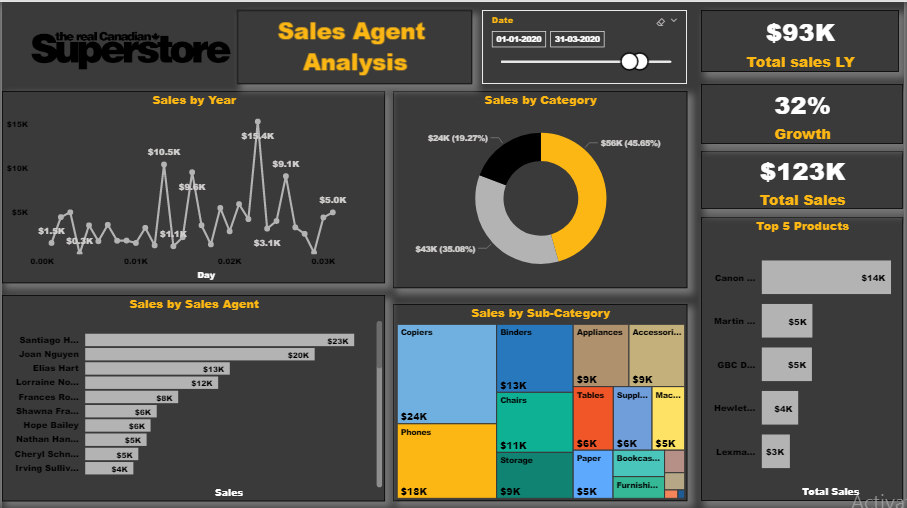

The page's visual inventory and layout, read from the dashboard file:
{"tool":"powerbi","page":{"name":"Sales  Agent Analysis","canvas":[1280,720],"ordinal":0},"visuals":[{"type":"donutChart","title":"Sales by Category","fields":{"Y":["Measures (2).Total Sales"],"Category":["Orders.Category"]},"box":[555.3,126.4,417.5,279.8],"z":0},{"type":"treemap","title":"Sales by Sub-Category","fields":{"Group":["Orders.Sub-Category"],"Values":["Measures (2).Total Sales"]},"box":[555.3,428.9,417.5,279.8],"z":1000},{"type":"lineChart","title":"Sales by Year","fields":{"Y":["Measures (2).Total Sales"],"Category":["Invoked Function.Date.Variation.Date Hierarchy.Year","Invoked Function.Date.Variation.Date Hierarchy.Quarter","Invoked Function.Date.Variation.Date Hierarchy.Month","Invoked Function.Date.Variation.Date Hierarchy.Day"]},"box":[0,126.4,543.9,272.7],"z":2000},{"type":"slicer","fields":{"Values":["Date Table.Date"]},"box":[681.7,11.4,291.1,105.1],"z":3000},{"type":"barChart","fields":{"Y":["Measures (2).Total Sales"],"Category":["Sales Agent.Name "]},"box":[0,416.1,543.9,292.5],"z":4000},{"type":"barChart","title":"Top 5 Products","fields":{"Category":["Orders.Product Name"],"Y":["Measures (2).Total Sales"]},"box":[992.7,305.3,286.9,403.3],"z":5000},{"type":"card","fields":{"Values":["Measures (2).Total Sales"]},"box":[992.7,211.6,286.9,82.4],"z":6000},{"type":"card","fields":{"Values":["Measures (2).Growth"]},"box":[992.7,11.4,286.9,85.2],"z":7000},{"type":"textbox","box":[333.7,11.4,333.7,105.1],"z":8000},{"type":"image","box":[32.7,0,301.1,136.3],"z":9000},{"type":"card","fields":{"Values":["Measures (2).Total sales LY"]},"box":[992.7,106.5,286.9,88],"z":10000}]}

Visuals, with their boxes in screenshot pixels (x1, y1, x2, y2), scaled from the page's 1280x720 canvas onto the 907x508 screenshot:
"Sales by Category" donutChart: {"x1": 393, "y1": 89, "x2": 689, "y2": 287}
"Sales by Sub-Category" treemap: {"x1": 393, "y1": 303, "x2": 689, "y2": 500}
"Sales by Year" lineChart: {"x1": 0, "y1": 89, "x2": 385, "y2": 282}
slicer - Date Table.Date: {"x1": 483, "y1": 8, "x2": 689, "y2": 82}
barChart - Measures (2).Total Sales x Sales Agent.Name : {"x1": 0, "y1": 294, "x2": 385, "y2": 500}
"Top 5 Products" barChart: {"x1": 703, "y1": 215, "x2": 906, "y2": 500}
card - Measures (2).Total Sales: {"x1": 703, "y1": 149, "x2": 906, "y2": 207}
card - Measures (2).Growth: {"x1": 703, "y1": 8, "x2": 906, "y2": 68}
textbox: {"x1": 236, "y1": 8, "x2": 473, "y2": 82}
image: {"x1": 23, "y1": 0, "x2": 237, "y2": 96}
card - Measures (2).Total sales LY: {"x1": 703, "y1": 75, "x2": 906, "y2": 137}
